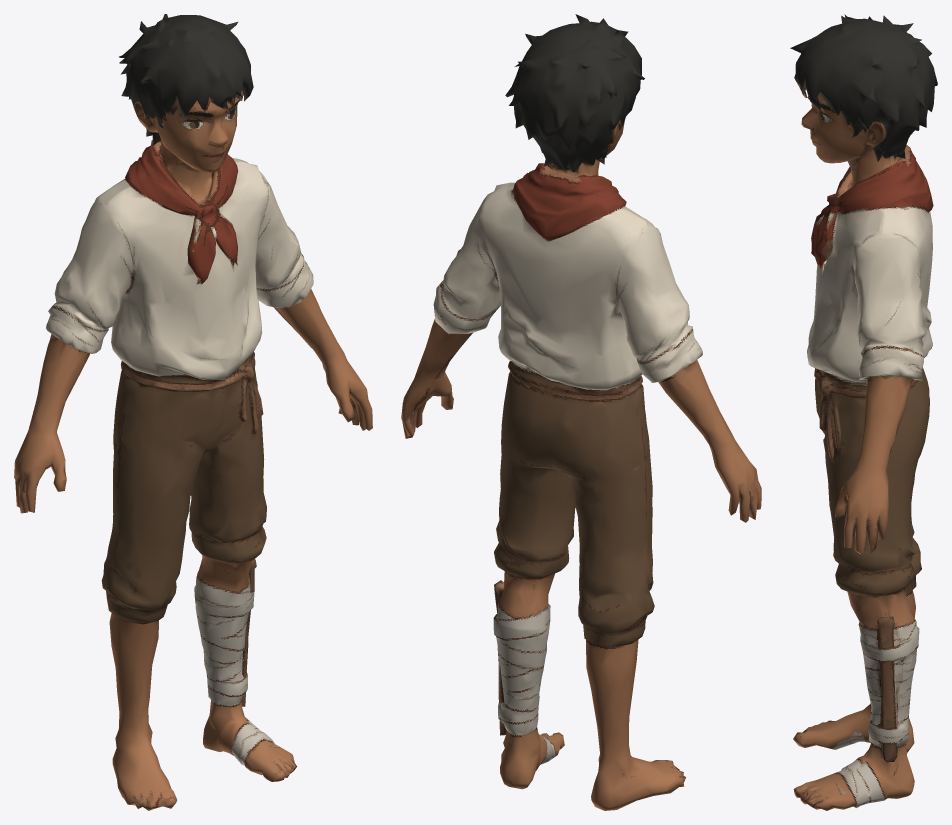
The model's file is tobias.glb.
3 views of the same model, side by side, from view 1: azimuth 30°, elevation 25°; view 2: azimuth 150°, elevation 25°; view 3: azimuth 270°, elevation 25° (orthographic).
Parts seen in each view (by area): view 1: tripo_node_9d7a2f2c-97e5-4c1d-a66f-ab58fcfcd8fa; view 2: tripo_node_9d7a2f2c-97e5-4c1d-a66f-ab58fcfcd8fa; view 3: tripo_node_9d7a2f2c-97e5-4c1d-a66f-ab58fcfcd8fa.
Part boxes in pixels (left/top/right/bottom): tripo_node_9d7a2f2c-97e5-4c1d-a66f-ab58fcfcd8fa: left=14, top=14, right=372, bottom=810; tripo_node_9d7a2f2c-97e5-4c1d-a66f-ab58fcfcd8fa: left=401, top=14, right=761, bottom=810; tripo_node_9d7a2f2c-97e5-4c1d-a66f-ab58fcfcd8fa: left=790, top=14, right=937, bottom=810.
Bounding box in the file's own units: 0.4828 × 1 × 0.1781.
Materials: 1 (1 with a texture image).
